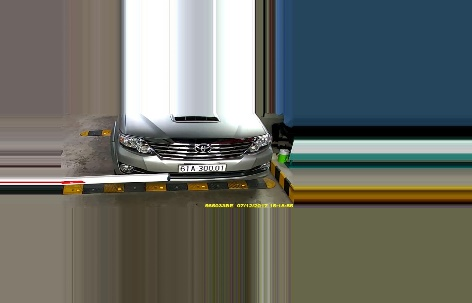plate: (173, 160, 230, 174)
